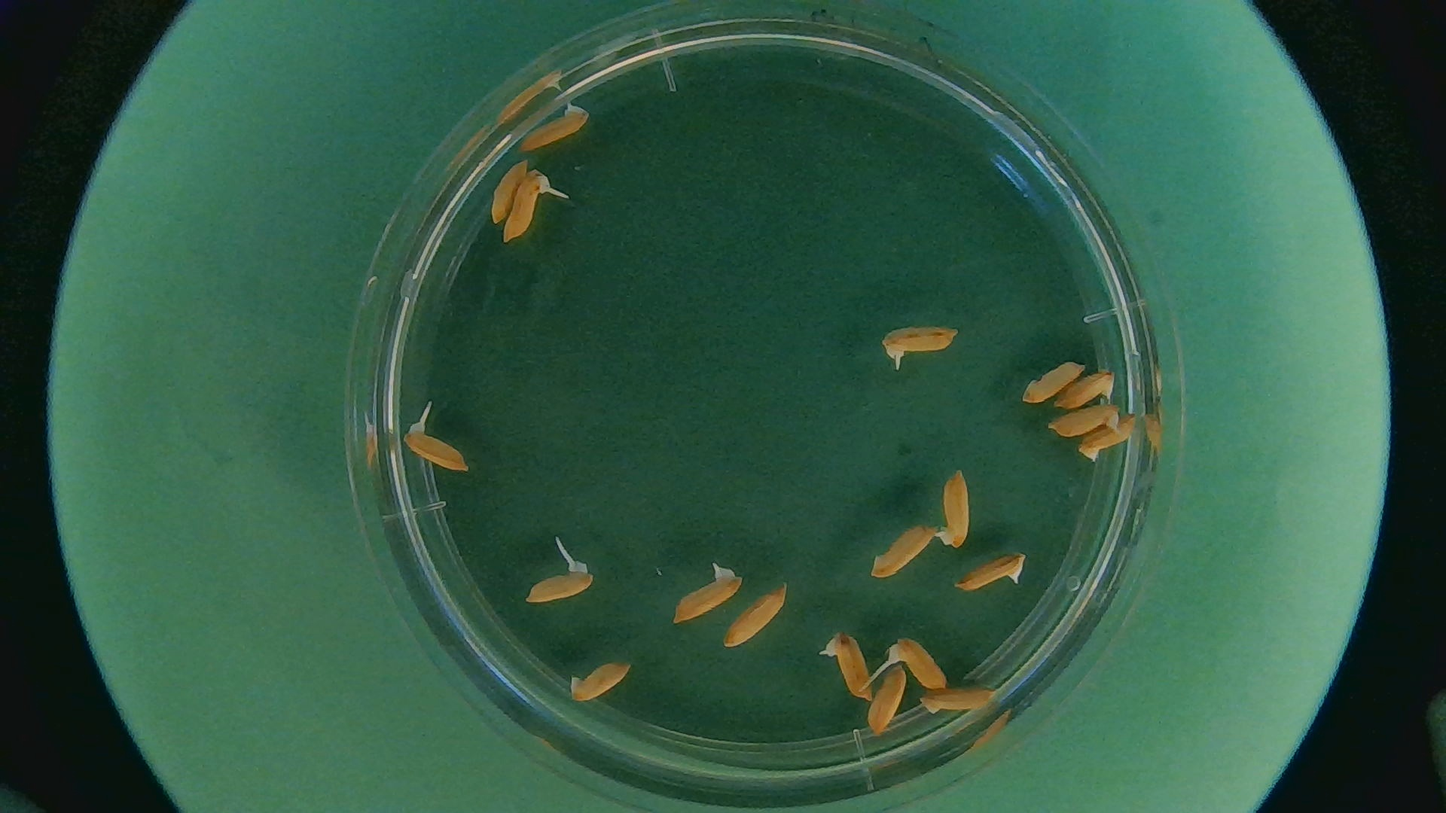no: (721, 583, 786, 650), (514, 99, 590, 155), (871, 522, 937, 577), (955, 550, 1028, 598), (1020, 357, 1088, 408), (1052, 361, 1117, 410), (1076, 414, 1143, 461), (568, 658, 633, 704), (488, 161, 533, 226), (866, 668, 908, 735), (918, 685, 1004, 717)
yes: (670, 568, 740, 627), (401, 423, 468, 477), (826, 629, 873, 702), (890, 638, 951, 694), (507, 166, 553, 239), (885, 321, 960, 364), (525, 560, 593, 604), (939, 467, 974, 550), (1042, 404, 1118, 437)
